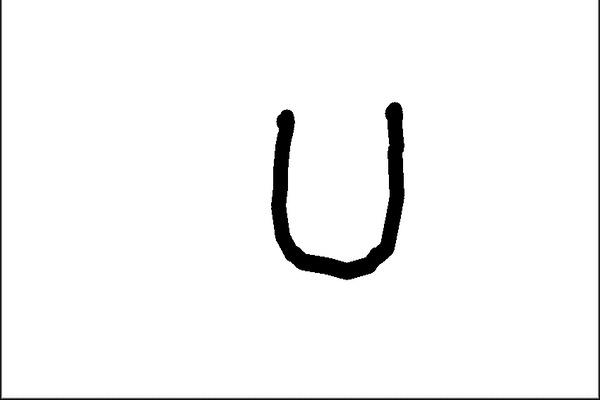U: (262, 89, 421, 280)
